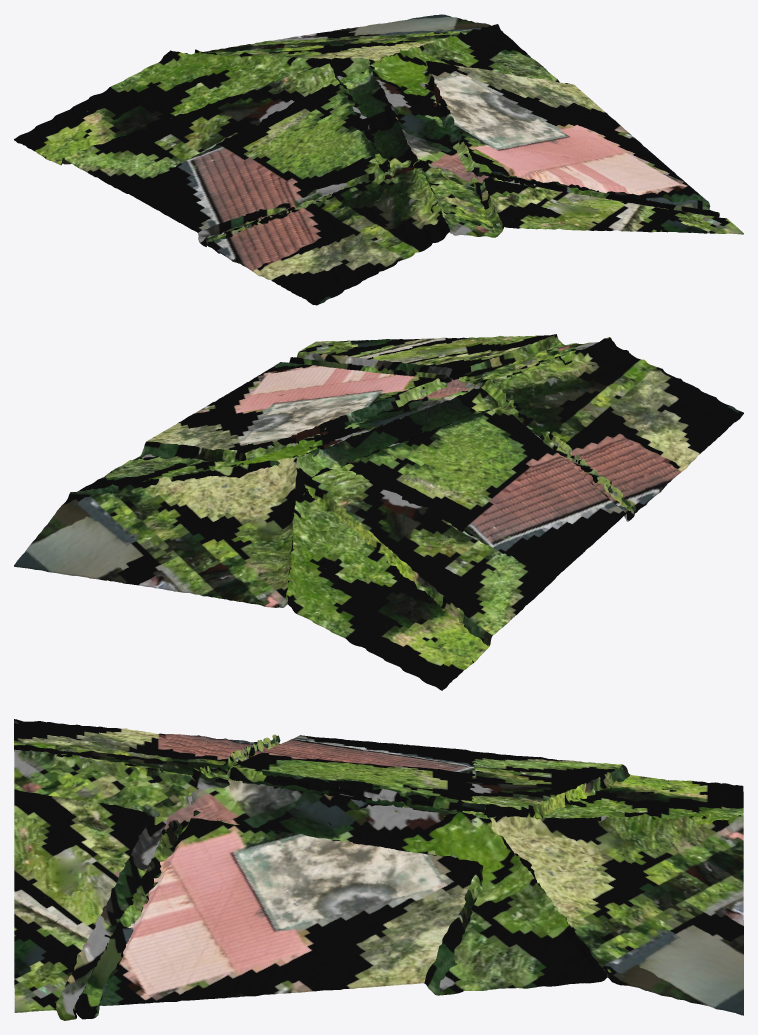
The picture shows the model from 3 angles, top to bottom: view 1: azimuth 30°, elevation 25°; view 2: azimuth 150°, elevation 25°; view 3: azimuth 270°, elevation 25°; orthographic projection. The views are drawn at different scales.
Parts seen in each view (by area): view 1: node_194; view 2: node_194; view 3: node_194.
Part boxes in pixels (x1,y1,x2,y2): node_194: (14,14,743,305); node_194: (14,334,743,690); node_194: (14,719,743,1020).
Bounding box in the file's own units: 8.98 × 2.05 × 10.98.
Materials: 1 (1 with a texture image).
